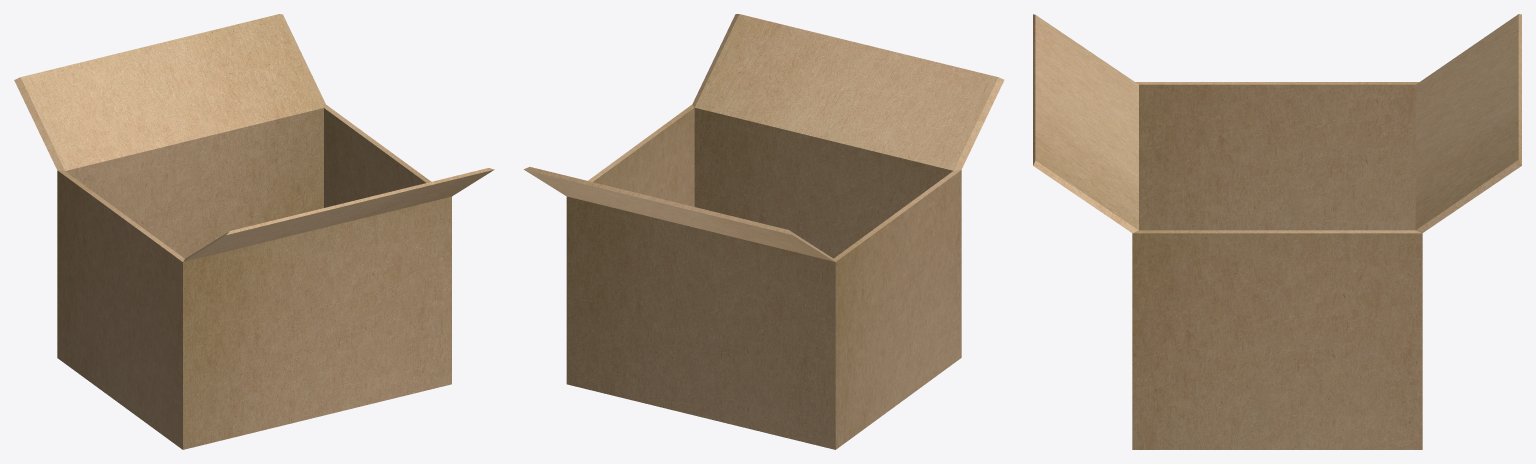
3 views of the same model, side by side, from view 1: azimuth 30°, elevation 25°; view 2: azimuth 150°, elevation 25°; view 3: azimuth 270°, elevation 25° (orthographic). The views are drawn at different scales.
Visible parts, largest first — view 1: F_Box_02; view 2: F_Box_02; view 3: F_Box_02.
Part boxes in pixels (x1,y1,x2,y2): F_Box_02: [14, 14, 494, 449]; F_Box_02: [524, 14, 1004, 449]; F_Box_02: [1033, 14, 1521, 449].
Size of the model in its own units: 46.88 by 41.49 by 63.97.
Materials: 1 (1 with a texture image).
